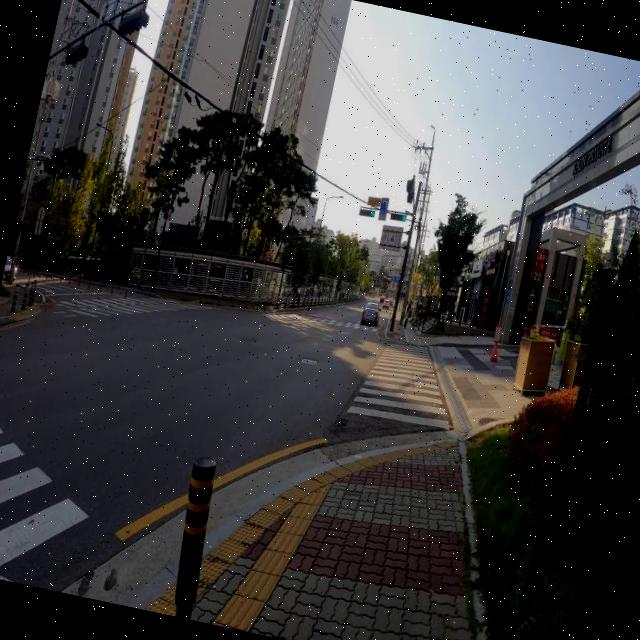crosswalk: (0, 422, 93, 568), (341, 339, 452, 433), (42, 296, 216, 320), (278, 312, 380, 333)
